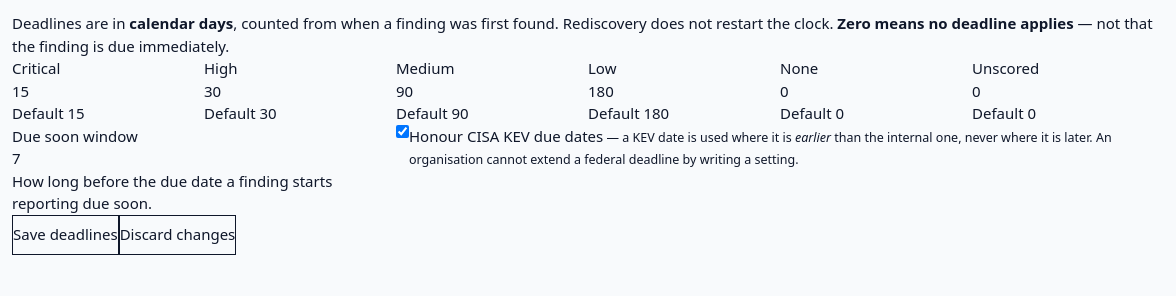
Test: saving › shows the backend's refusal rather than a generic failure
The image size is (1176, 296).
Expected: the number field labelled "Critical" is shown, x1=12 y1=80 x2=204 y2=100
Replace the text in the number field labelled "Low" with "5". click: (684, 90)
box: x1=588 y1=80 x2=780 y2=100
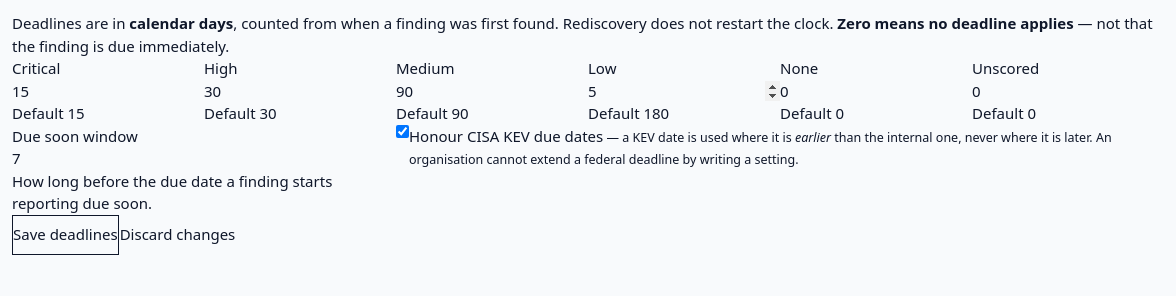
Click the button "Save deadlines". click: click(65, 234)
box: x1=12 y1=214 x2=119 y2=254
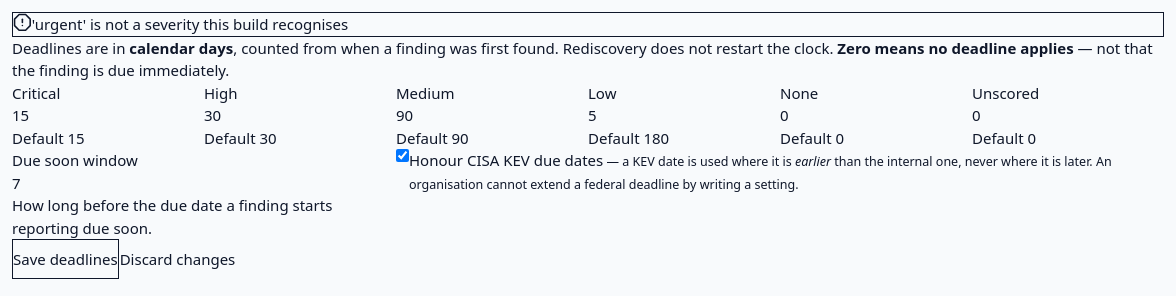
Now the text "'urgent' is not a severity this build recognises" is shown, box x1=32 y1=14 x2=348 y2=34
